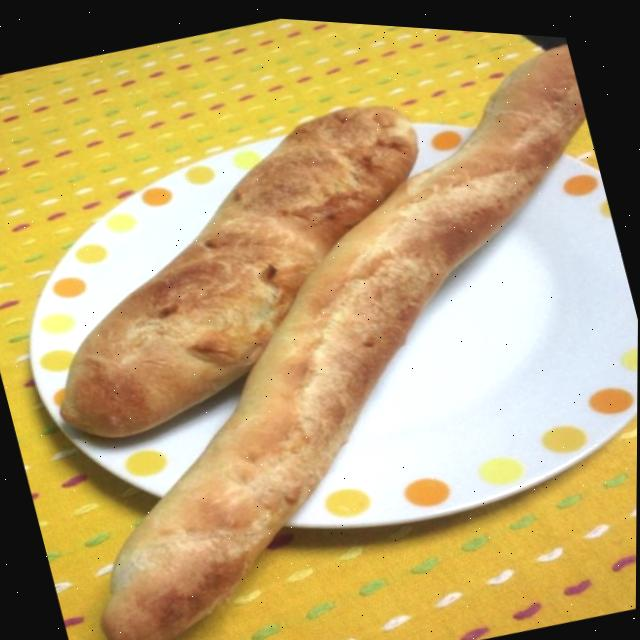汤锅炖物: (0, 78, 347, 617)
